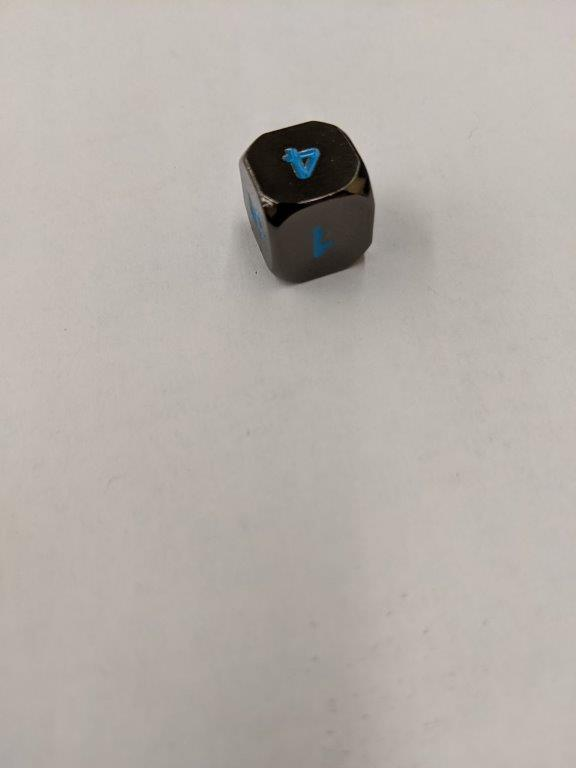d6-4: (239, 117, 377, 285)
